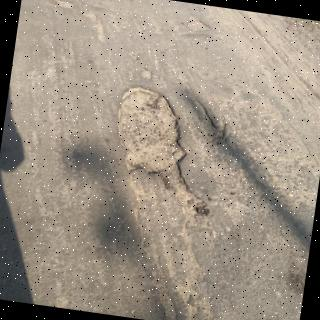pothole: (193, 100, 310, 253), (116, 86, 208, 214)
